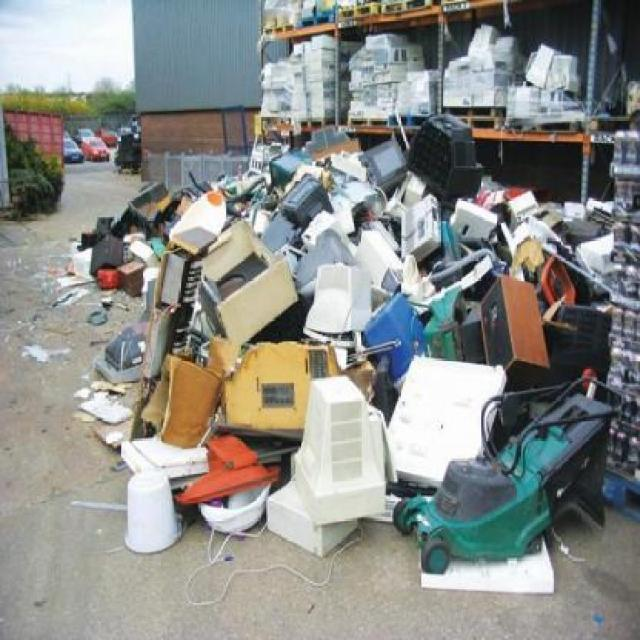garbage: (142, 203, 605, 558), (268, 6, 640, 138), (250, 120, 473, 200), (81, 208, 154, 281)
